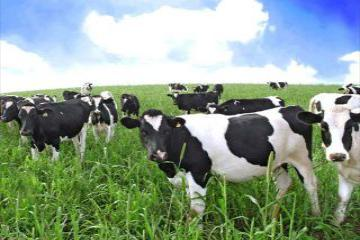cow: (140, 112, 311, 203), (18, 102, 85, 151), (319, 102, 360, 181), (168, 90, 198, 111), (120, 92, 139, 116), (1, 99, 17, 125)
